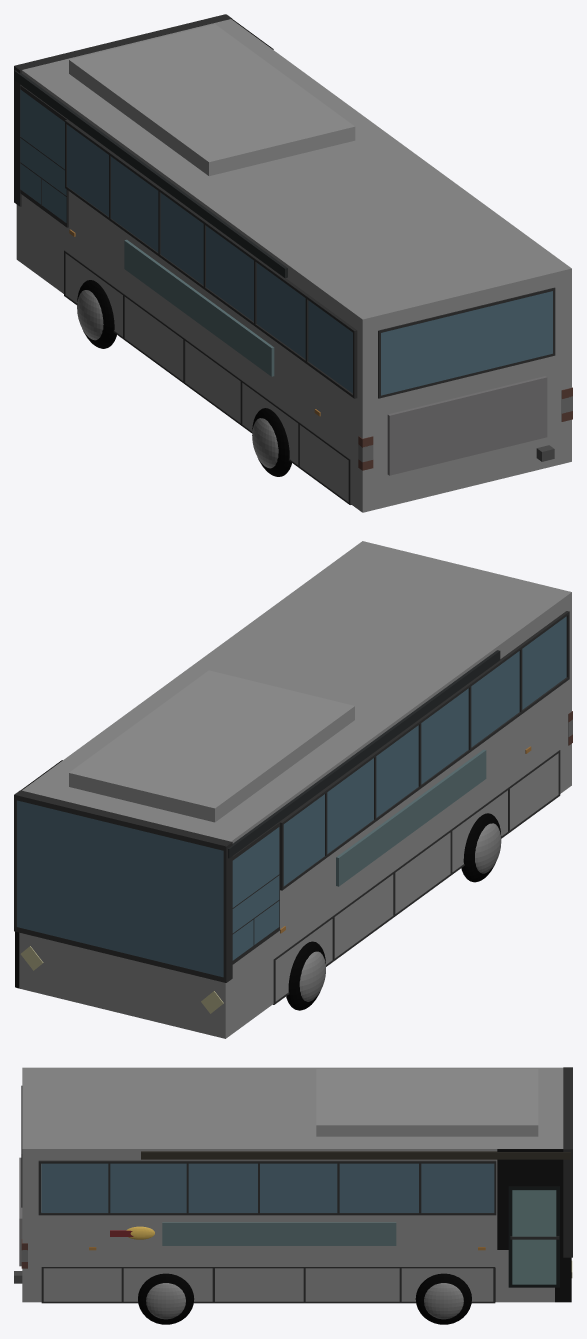
Rendered from oishibus1.fbx.
3 renders of one model, top to bottom at view 1: azimuth 30°, elevation 25°; view 2: azimuth 150°, elevation 25°; view 3: azimuth 270°, elevation 25°, orthographic. The views are drawn at different scales.
Visible parts, largest first — view 1: Cube, Cube.018, Cube.005, Cube.031, Cube.009, Cube.030, Cube.023, Sphere.002, Cube.017, Sphere.007, Cube.019; view 2: Cube, Cube.018, Cube.005, Cube.009, Cube.030, Cube.023, Cube.017, Sphere.002, Sphere.007, Cube.019; view 3: Cube, Cube.018, Cube.005, Cube.009, Cube.030, Cube.025, Cube.024, Cube.022, Cube.017, Sphere.002, Sphere.007, Cube.021 (+1 smaller).
Boxes of the visible parts, x1,y1,x2,y2 form: Cube: (16,19,571,512); Cube.018: (20,89,552,395); Cube.005: (69,24,355,176); Cube.031: (387,376,547,475); Cube.009: (14,14,555,398); Cube.030: (124,239,274,376); Cube.023: (14,70,287,278); Sphere.002: (77,280,291,476); Cube.017: (64,250,351,504); Sphere.007: (77,290,278,468); Cube.019: (20,85,68,227); Cube: (16,541,571,1038); Cube.018: (17,616,566,977); Cube.005: (69,670,354,822); Cube.009: (14,611,569,982); Cube.030: (336,749,486,886); Cube.023: (228,650,500,858); Cube.017: (273,750,560,1004); Sphere.002: (286,813,501,1010); Sphere.007: (299,823,501,1001); Cube.019: (232,822,279,964); Cube: (22,1067,563,1302); Cube.018: (41,1163,494,1212); Cube.005: (316,1069,538,1136); Cube.009: (21,1067,572,1257); Cube.030: (162,1222,396,1245); Cube.025: (512,1190,556,1284); Cube.024: (141,1151,570,1159); Cube.022: (497,1149,571,1302); Cube.017: (41,1267,495,1303); Sphere.002: (138,1273,471,1324); Sphere.007: (146,1283,463,1319); Cube.021: (508,1186,559,1287).
Bounding box in the file's own units: 481 × 458 × 1244.
